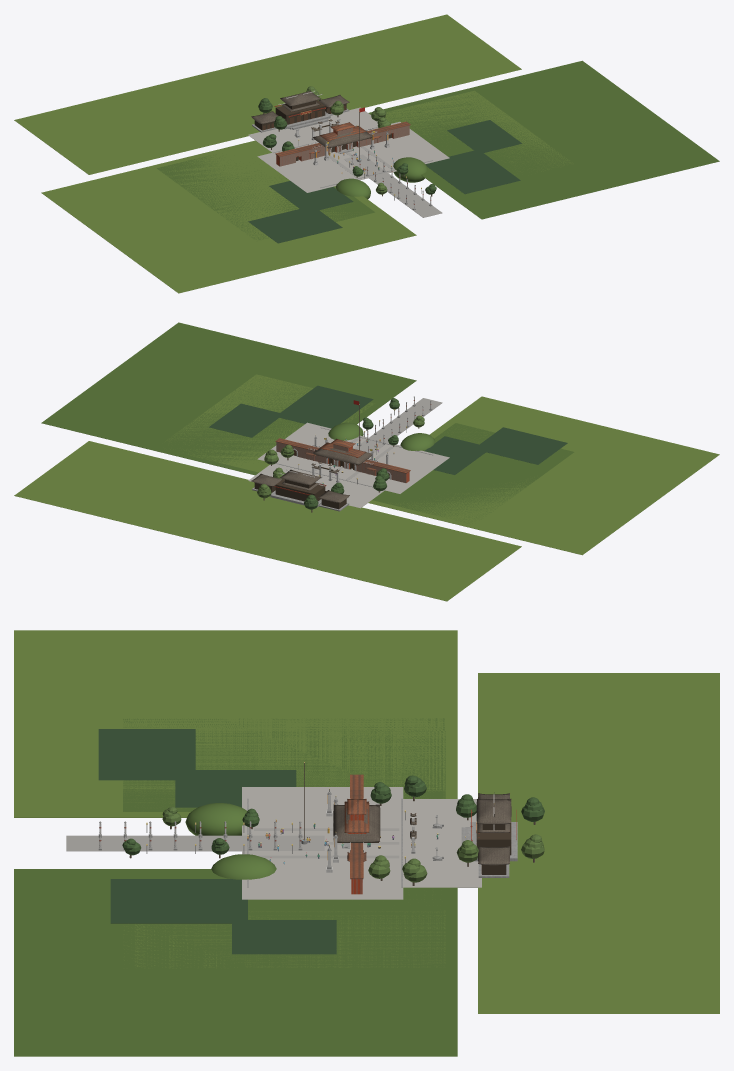
Rendered from den-tran-model.glb.
3 renders of one model, top to bottom at view 1: azimuth 30°, elevation 25°; view 2: azimuth 150°, elevation 25°; view 3: azimuth 270°, elevation 25°, orthographic. The views are drawn at different scales.
Parts seen in each view (by area): view 1: Field_W_Far, Field_E_Far, Paddy_0, Forecourt, Avenue_Paving, NghiCol_WTall_Cap, Earth_Mound_-1, Wall_Main, Pillar_NW_Base2, Wall_Reveal_-5, Tree_GW1_Foliage_0, Wall_Coping (+2 smaller); view 2: Field_W_Far, Field_E_Far, Paddy_0, Forecourt, NghiCol_WTall_Cap, Avenue_Paving, Wall_Reveal_-5, Earth_Mound_-1, Wall_Main, Tree_GW1_Foliage_0, Wall_Coping, Pillar_NW_Base2 (+2 smaller); view 3: Field_W_Far, Field_E_Far, Paddy_0, Forecourt, Avenue_Paving, NghiCol_WTall_Cap, Earth_Mound_-1, Tree_GW1_Foliage_0, Tree_GE1_Foliage_0, Pillar_NW_Base2, Wall_Coping, WallTrim_-5 (+1 smaller).
Part boxes in pixels (x1,y1,x2,y2): Field_W_Far: (14,14,573,293); Field_E_Far: (157,60,719,239); Paddy_0: (248,120,521,243); Forecourt: (248,107,449,192); Avenue_Paving: (328,146,442,217); NghiCol_WTall_Cap: (251,90,372,147); Earth_Mound_-1: (336,157,427,199); Wall_Main: (276,125,409,166); Pillar_NW_Base2: (252,108,432,210); Wall_Reveal_-5: (254,100,391,160); Tree_GW1_Foliage_0: (258,98,436,194); Wall_Coping: (275,111,410,156); Field_W_Far: (14,374,719,601); Field_E_Far: (41,322,574,523); Paddy_0: (209,385,567,474); Forecourt: (248,422,449,508); NghiCol_WTall_Cap: (251,448,371,502); Avenue_Paving: (311,398,442,480); Wall_Reveal_-5: (254,454,359,509); Earth_Mound_-1: (328,422,435,450); Wall_Main: (276,442,409,482); Tree_GW1_Foliage_0: (304,398,399,509); Wall_Coping: (275,438,410,495); Pillar_NW_Base2: (252,396,432,511); Field_W_Far: (14,630,719,1013); Field_E_Far: (14,718,457,1056); Paddy_0: (98,729,336,954); Forecourt: (242,787,481,899); Avenue_Paving: (66,828,399,858); NghiCol_WTall_Cap: (333,793,511,865); Earth_Mound_-1: (185,803,276,879); Tree_GW1_Foliage_0: (122,775,544,855); Tree_GE1_Foliage_0: (162,806,544,882); Pillar_NW_Base2: (98,789,517,887); Wall_Coping: (344,774,511,878); WallTrim_-5: (99,793,494,882).
Bounding box in the file's own units: 250 × 28.72 × 175.
Materials: 47 (6 with a texture image).
